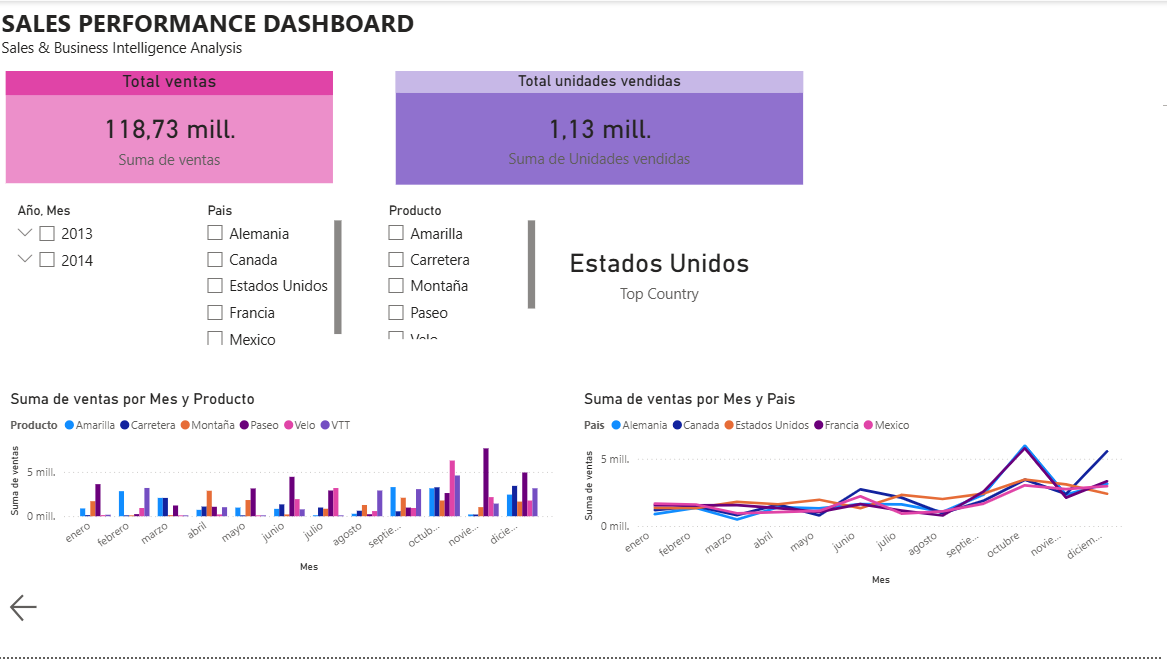

Layout of this report page (visuals, bound fields, positions):
{"tool":"powerbi","page":{"name":"Sales Performance Dashboard","canvas":[1280,720],"ordinal":1},"visuals":[{"type":"card","title":"Total ventas","fields":{"Values":["Sum(financials.Ventas)"]},"box":[9.6,76.8,359.5,123.5],"z":0},{"type":"card","title":"Total unidades vendidas","fields":{"Values":["Sum(financials.Unidades vendidas)"]},"box":[437.7,76.8,447.3,124.9],"z":1000},{"type":"clusteredColumnChart","fields":{"Series":["financials.Producto"],"Y":["Sum(financials.Ventas)"],"Category":["financials.Fecha.Variación.Jerarquía de fechas.Mes"]},"box":[9.6,426.8,606.5,205.8],"z":2000},{"type":"lineChart","fields":{"Category":["financials.Fecha.Variación.Jerarquía de fechas.Mes"],"Series":["financials.Pais"],"Y":["Sum(financials.Ventas)"]},"box":[639.5,426.8,602.4,219.6],"z":3000},{"type":"slicer","fields":{"Values":["financials.Fecha.Variación.Jerarquía de fechas.Año","financials.Fecha.Variación.Jerarquía de fechas.Mes"]},"box":[9.6,216.8,153.7,159.2],"z":4000},{"type":"slicer","fields":{"Values":["financials.Pais"]},"box":[218.2,216.8,164.7,166],"z":5000},{"type":"slicer","fields":{"Values":["financials.Producto"]},"box":[417.2,216.8,178.4,159.2],"z":6000},{"type":"actionButton","box":[9.6,646.3,100.2,39.8],"z":7000},{"type":"textbox","box":[0,0,553,74.1],"z":8000},{"type":"card","fields":{"Values":["financials.Top Country"]},"box":[616.1,216.8,222.3,159.2],"z":8001}]}

Visuals, with their boxes in screenshot pixels (x1, y1, x2, y2), scaled from the page's 1280x720 canvas onto the 1167x667 screenshot:
"Total ventas" card: bbox=[9, 71, 337, 186]
"Total unidades vendidas" card: bbox=[399, 71, 807, 187]
clusteredColumnChart - financials.Producto x Sum(financials.Ventas): bbox=[9, 395, 562, 586]
lineChart - financials.Fecha.Variación.Jerarquía de fechas.Mes x financials.Pais: bbox=[583, 395, 1132, 599]
slicer - financials.Fecha.Variación.Jerarquía de fechas.Año x financials.Fecha.Variación.Jerarquía de fechas.Mes: bbox=[9, 201, 149, 348]
slicer - financials.Pais: bbox=[199, 201, 349, 355]
slicer - financials.Producto: bbox=[380, 201, 543, 348]
actionButton: bbox=[9, 599, 100, 636]
textbox: bbox=[0, 0, 504, 69]
card - financials.Top Country: bbox=[562, 201, 764, 348]
